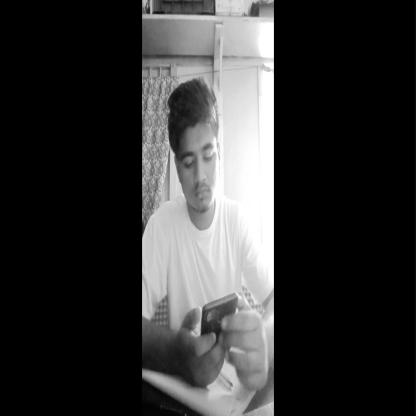Normal: (164, 80, 225, 217)
